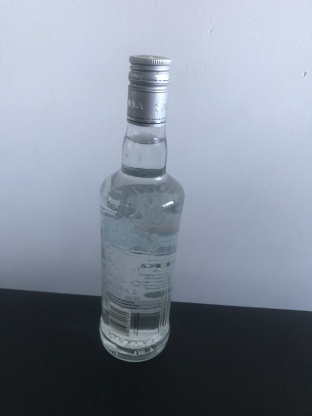nakretka: (125, 53, 172, 126)
